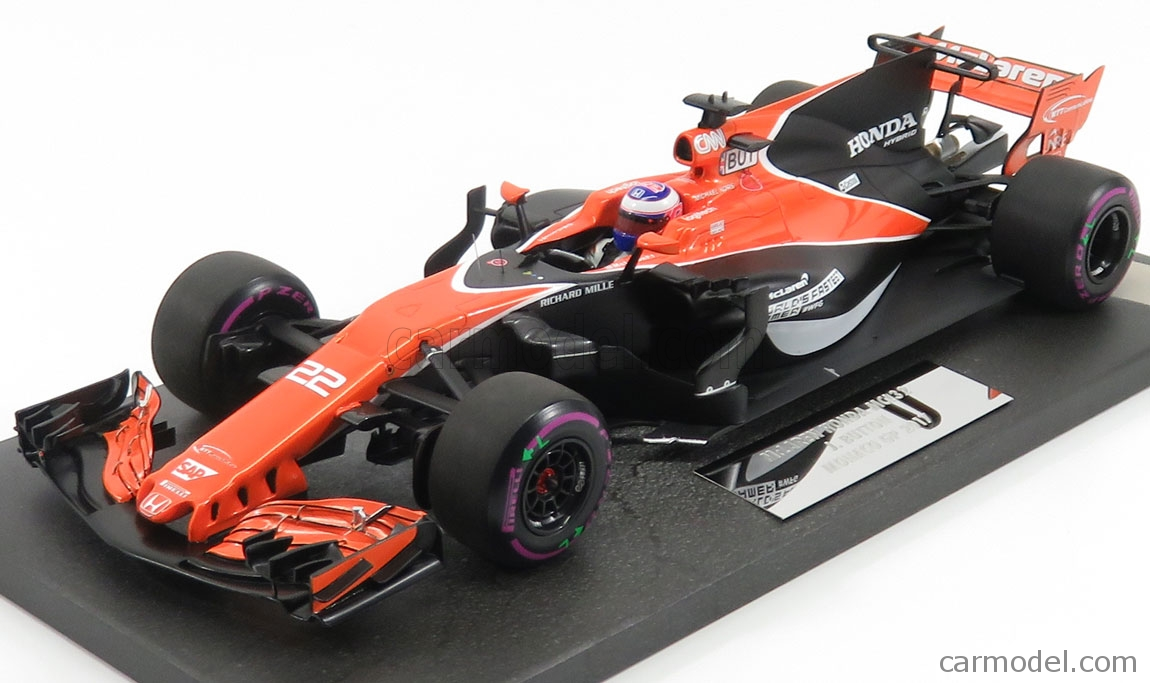f1_car: (7, 14, 1144, 652)
